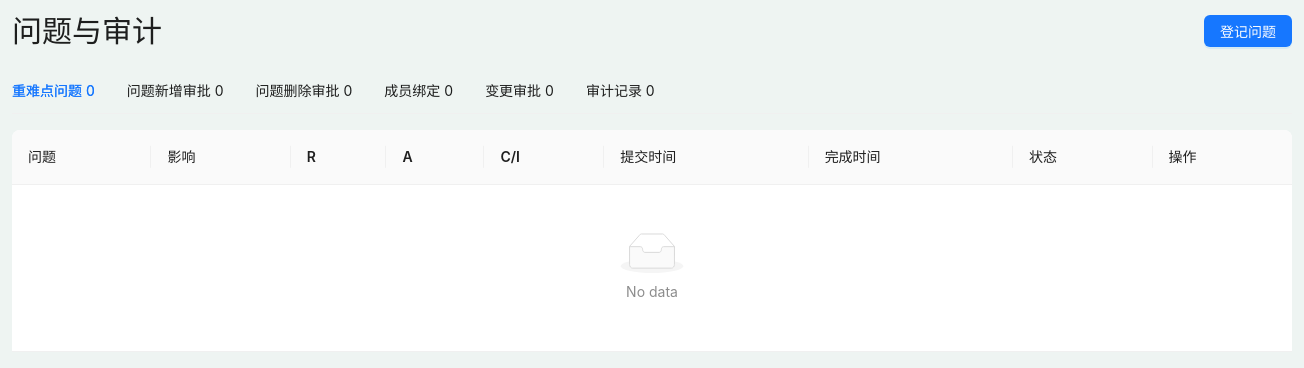
Test: IssuesAuditPage › lists and approves a pending issue deletion
The image size is (1304, 368).
Click the tab "问题删除审批 0".
click(304, 91)  # box [256, 80, 352, 102]
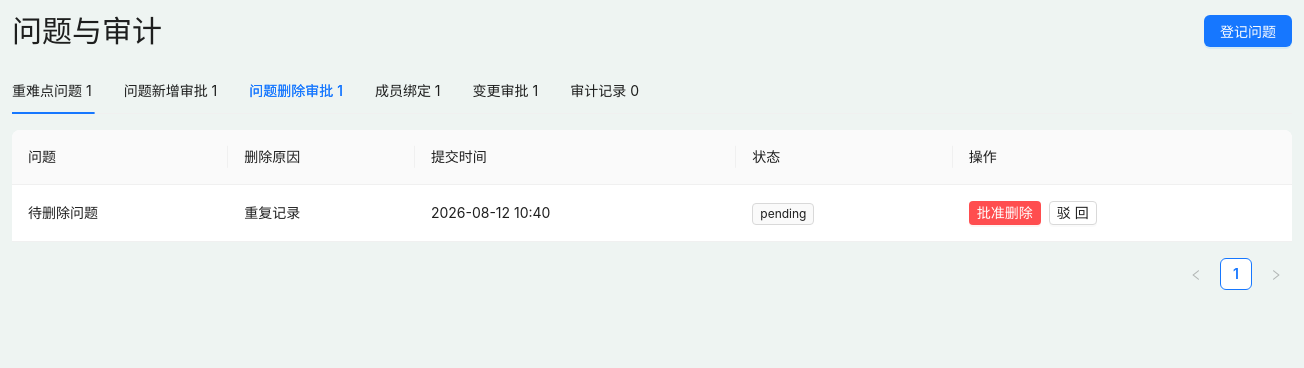
Expected: the text "待删除问题" is shown, [12, 185, 228, 242]
Click the button "批准删除".
click(1005, 213)  # box [969, 201, 1041, 225]
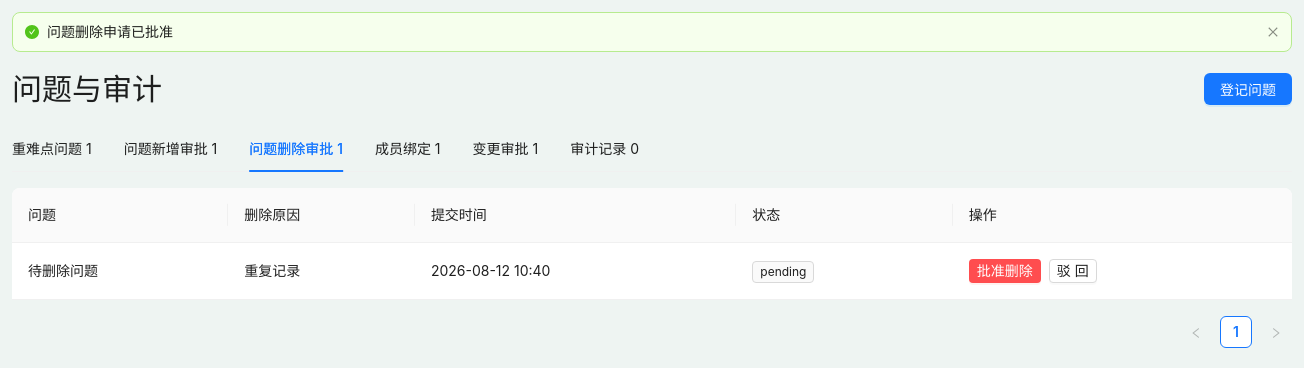
Expected: the text "问题删除申请已批准" is shown, [47, 23, 173, 40]
